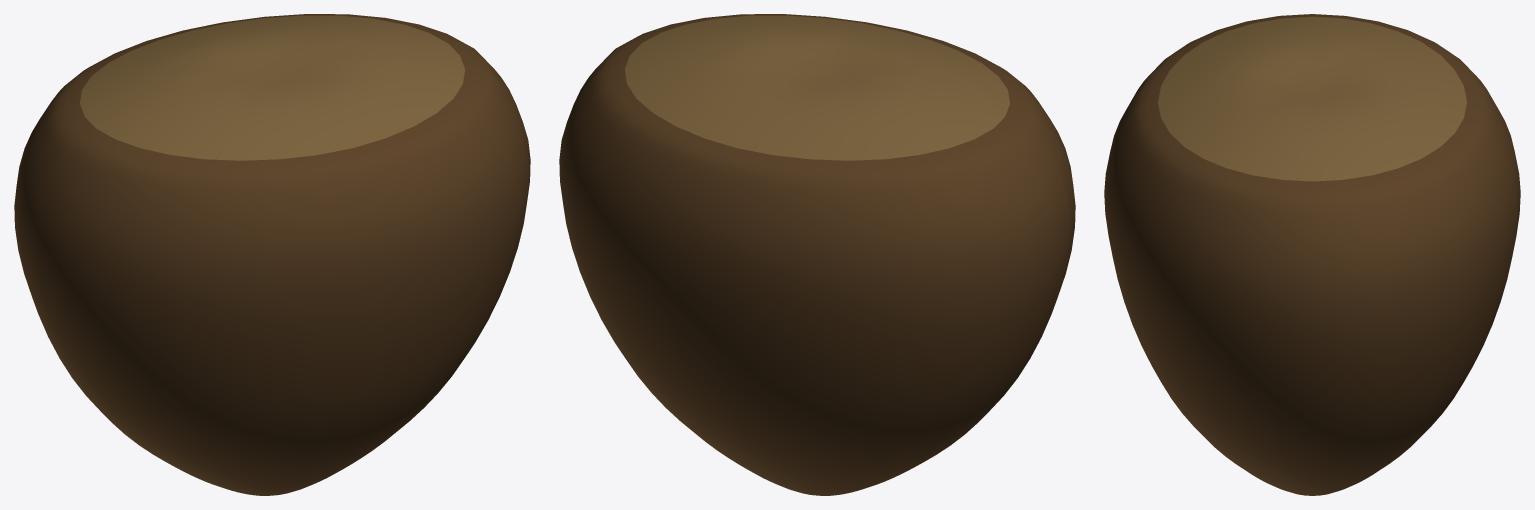
Rendered from Haselnussblend.fbx.
3 renders of one model, left to right at view 1: azimuth 30°, elevation 25°; view 2: azimuth 150°, elevation 25°; view 3: azimuth 270°, elevation 25°, orthographic. The views are drawn at different scales.
Visible parts, largest first — view 1: Sphere; view 2: Sphere; view 3: Sphere.
Boxes of the visible parts, x1,y1,x2,y2 form: Sphere: (14, 14, 530, 495); Sphere: (559, 14, 1075, 495); Sphere: (1104, 14, 1520, 495).
Size of the model in its own units: 228 by 198 by 182.
